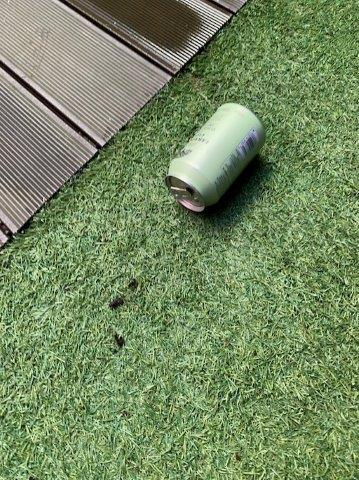kaleng: (162, 101, 268, 213)
